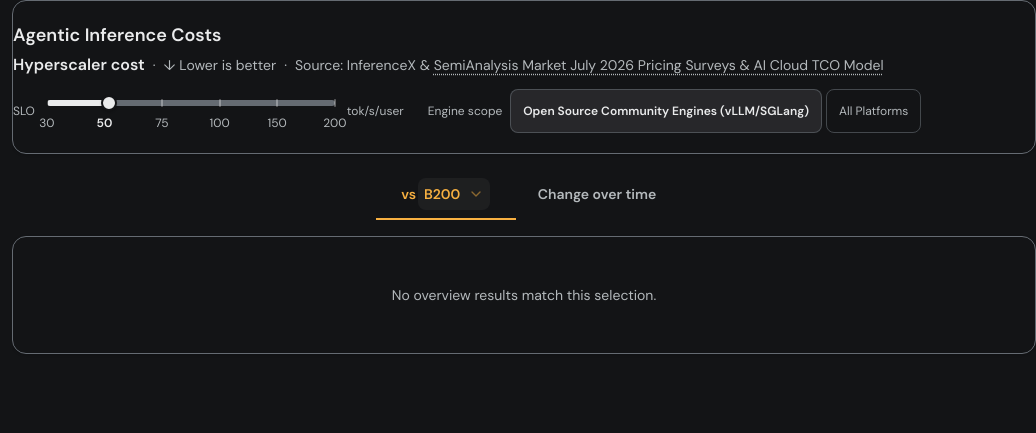
Test case: OverviewPageContent failure states › renders a localized recoverable navigation alert for en
Click the link "All Platforms".
click(874, 111)  # box [826,89,921,133]
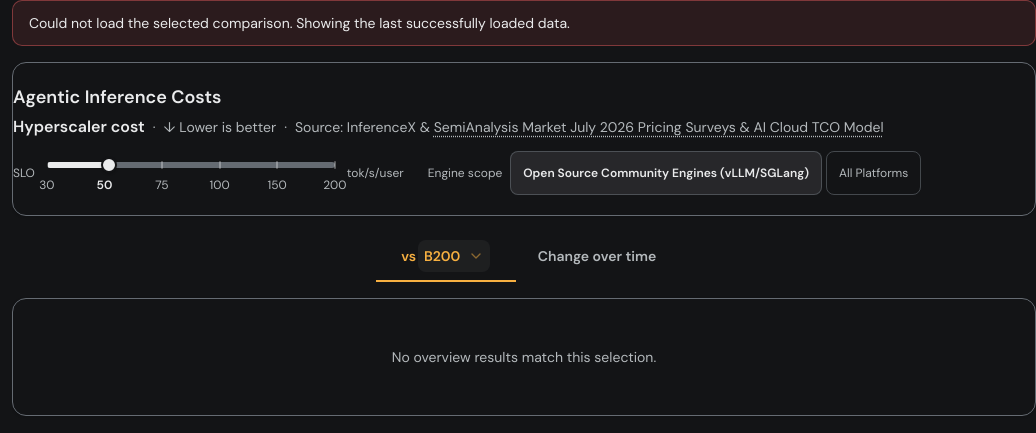
expect the 1st message shows "Could not load the selected comparison. Showing the last successfully loaded data.": met, box [29,14,570,32]
